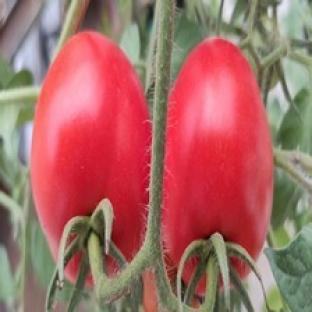Tomato: (31, 33, 150, 260), (163, 38, 272, 266)
